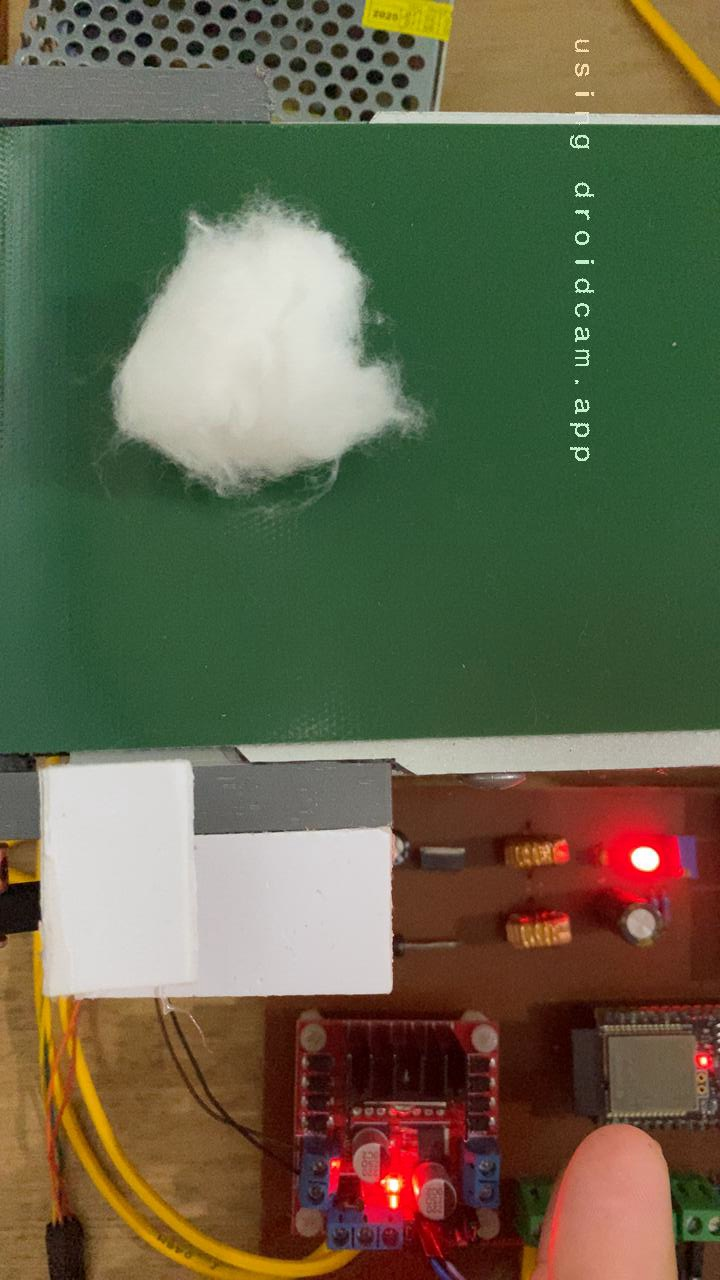cotton: (106, 197, 419, 496)
